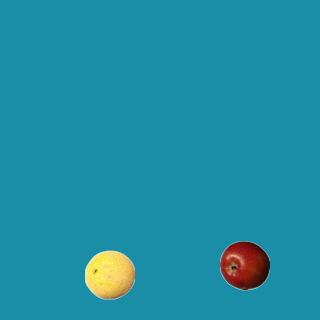Apple Braeburn: (219, 240, 269, 290)
Cantaloupe 1: (84, 249, 134, 299)
